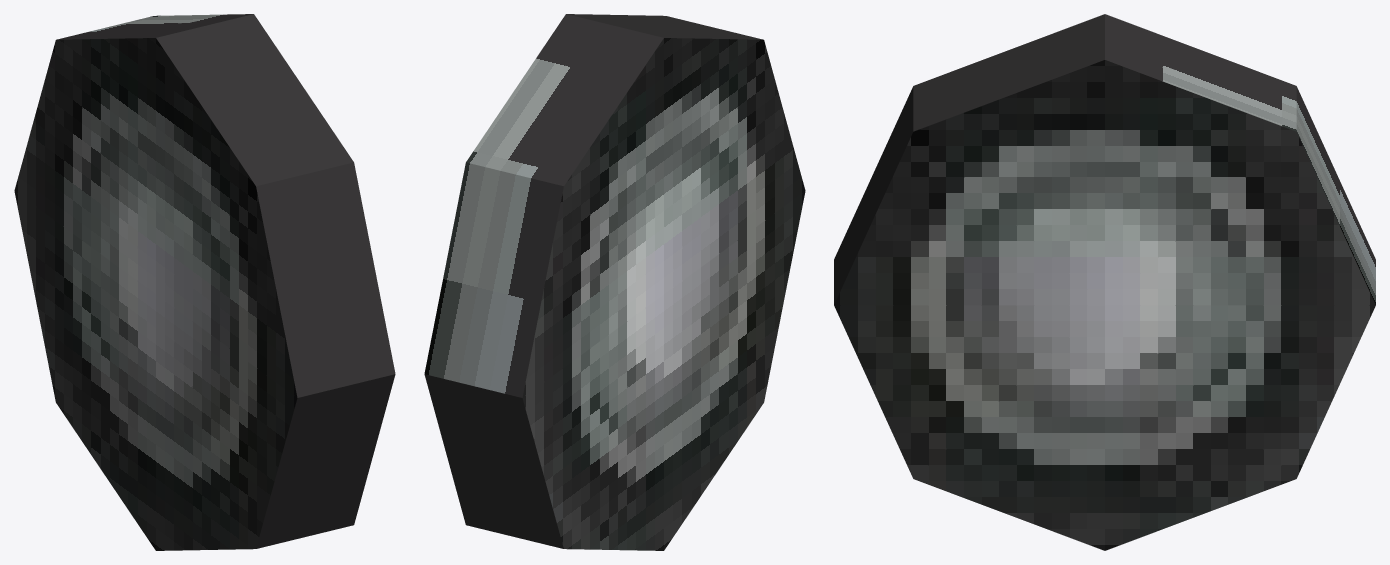
File: hatchback_wheel.glb
3 renders of one model, left to right at view 1: azimuth 30°, elevation 25°; view 2: azimuth 150°, elevation 25°; view 3: azimuth 270°, elevation 25°, orthographic. The views are drawn at different scales.
Visible parts, largest first — view 1: wheel_FR; view 2: wheel_FR; view 3: wheel_FR.
Boxes of the visible parts, box(x1,y1,x2,y2) form: wheel_FR: box(14, 14, 395, 550); wheel_FR: box(424, 14, 805, 550); wheel_FR: box(834, 14, 1375, 550).
Size of the model in its own units: 0.1363 by 0.6814 by 0.6814.
1 material, 1 textured.
